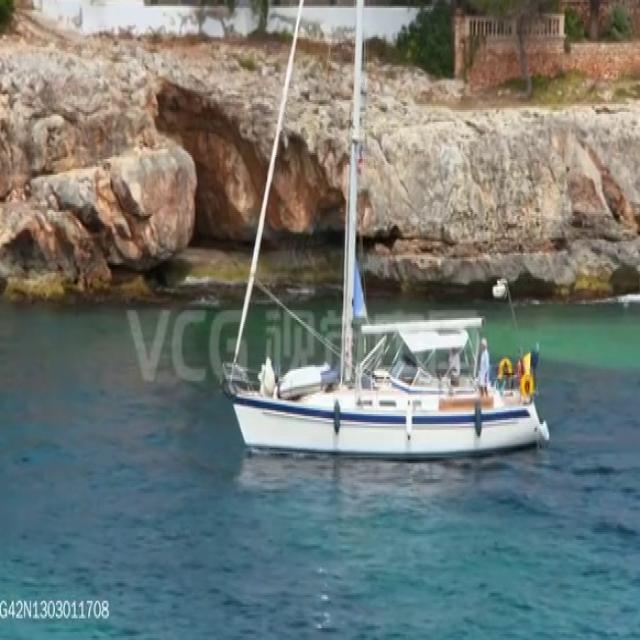sailboat: (215, 0, 546, 457)
